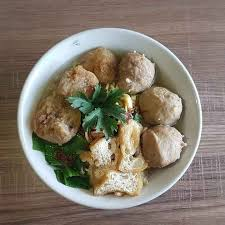bakso: (21, 43, 199, 214)
